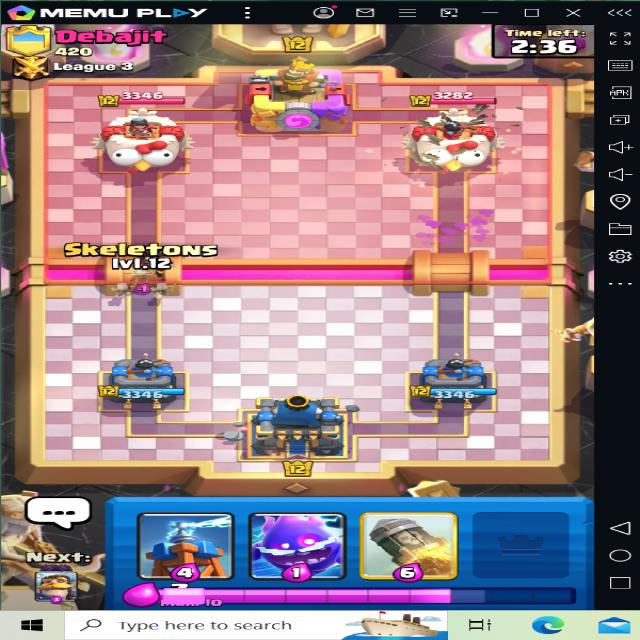electro-wizard: (122, 241, 177, 282)
